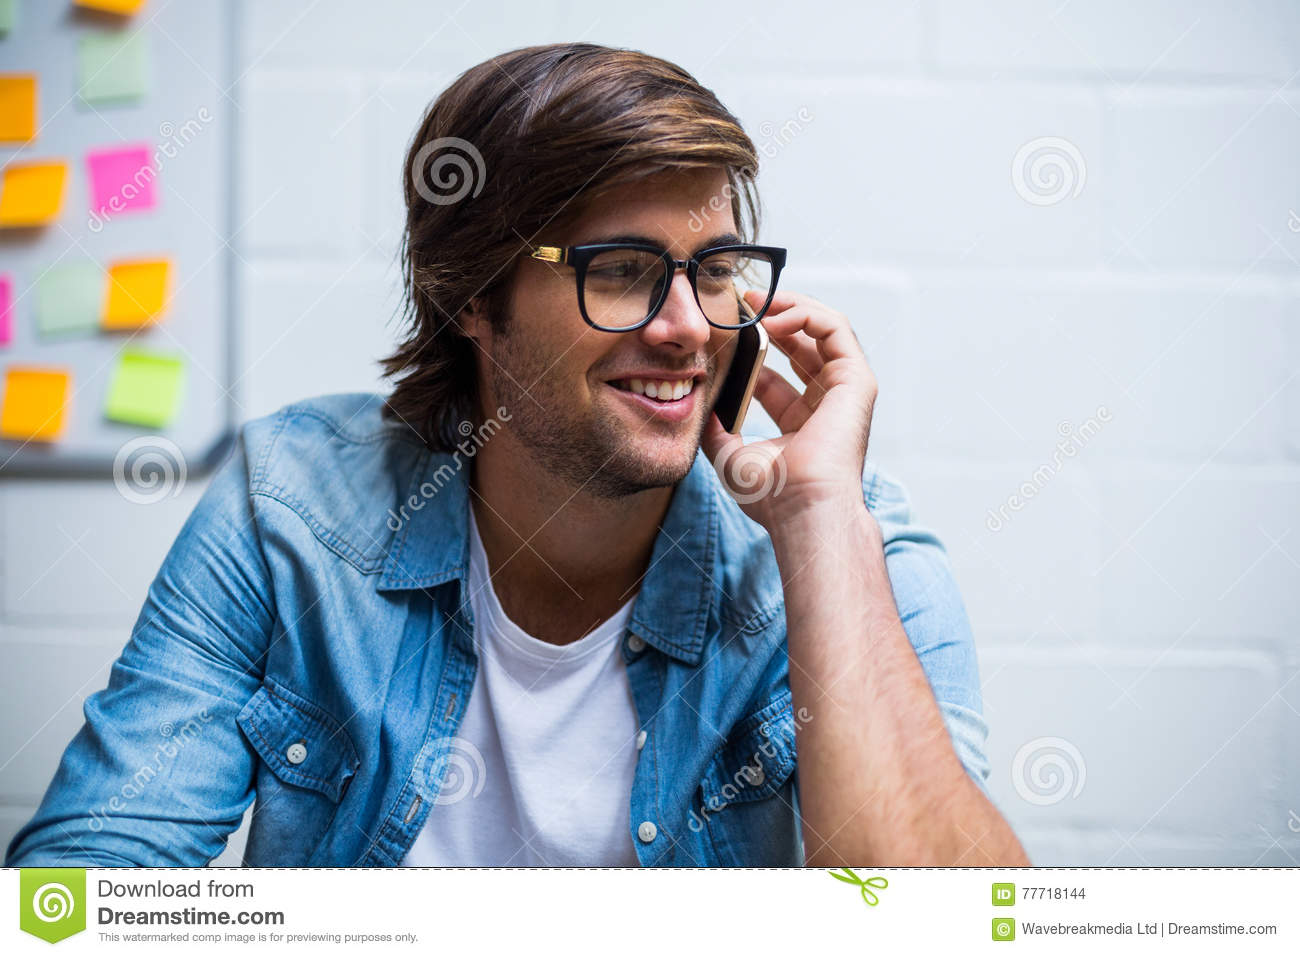phone: (716, 292, 775, 459)
talk: (544, 215, 884, 579)
